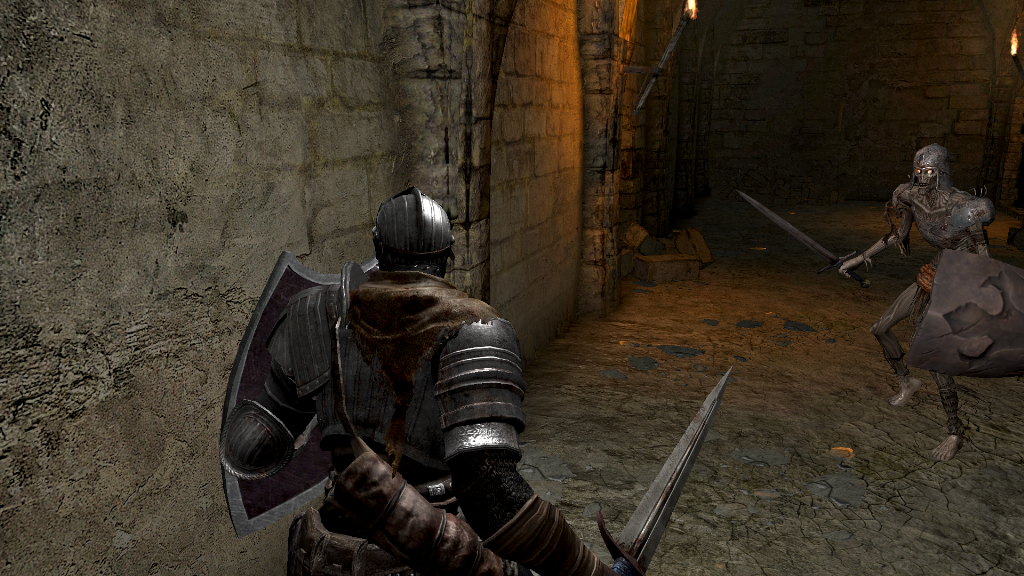player: (217, 186, 735, 576)
undeadSoldier: (836, 141, 999, 459)
